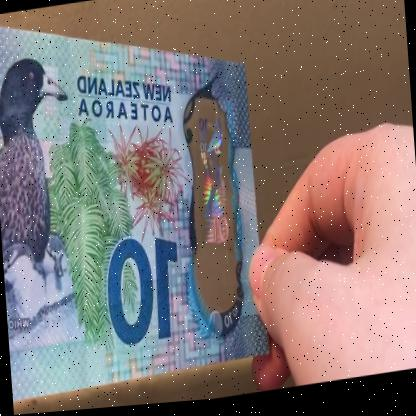10F: (190, 116, 237, 304)
